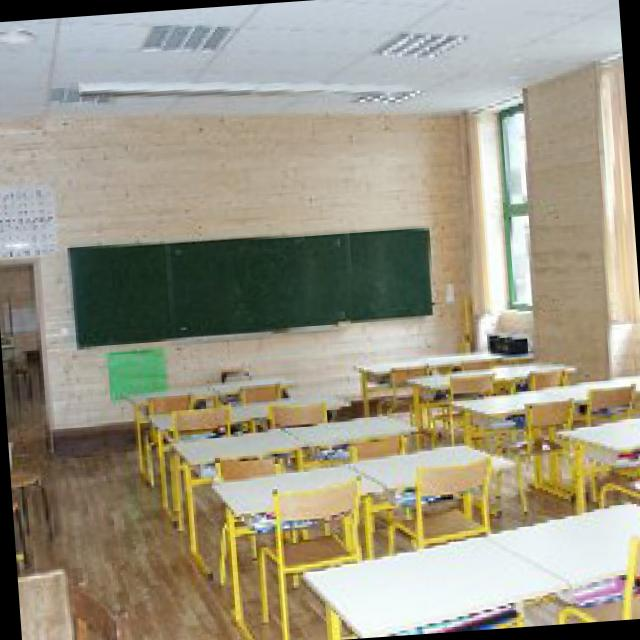2001: (498, 103, 534, 305)
blackboard: (69, 227, 435, 344)
desks: (127, 368, 640, 638), (356, 344, 640, 512)
door bars: (0, 262, 48, 447)
floor -X: (16, 389, 640, 640)
lamp crop: (376, 28, 468, 59), (143, 23, 234, 49)
wall clock: (0, 117, 483, 451), (466, 60, 640, 424)
